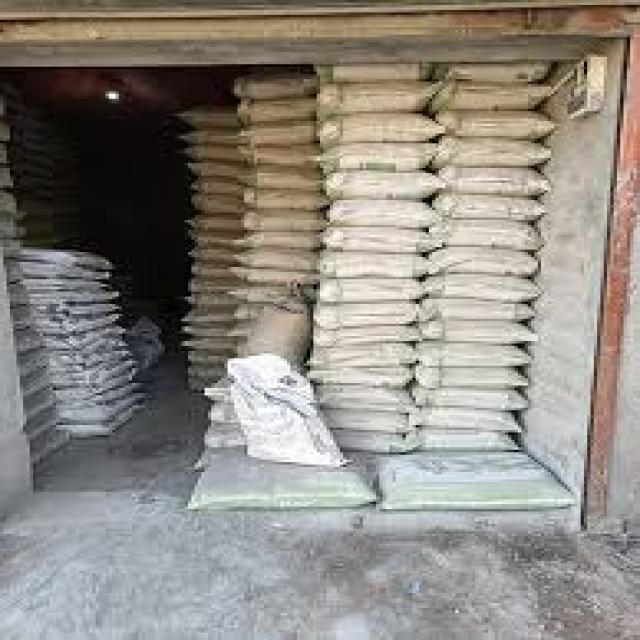cement_bag: (383, 452, 572, 505), (330, 81, 434, 114), (448, 112, 552, 140), (324, 278, 420, 308), (440, 222, 534, 252), (331, 171, 432, 197), (455, 82, 554, 108), (316, 387, 409, 414), (445, 169, 537, 196), (71, 391, 140, 423), (442, 250, 530, 275), (347, 118, 435, 143), (340, 201, 425, 226), (447, 143, 543, 165), (337, 147, 428, 170), (334, 256, 415, 281), (436, 280, 528, 302), (250, 166, 325, 192), (433, 346, 525, 367), (323, 345, 411, 366), (40, 312, 117, 336), (433, 371, 525, 391), (444, 199, 540, 218), (438, 322, 528, 342), (439, 302, 528, 322), (337, 233, 424, 253), (422, 411, 513, 430), (252, 186, 327, 209), (29, 249, 114, 269), (426, 394, 518, 412), (245, 248, 315, 271), (243, 97, 312, 120), (248, 120, 310, 145), (416, 433, 506, 450), (251, 213, 320, 232), (243, 267, 307, 287), (28, 277, 105, 291), (186, 106, 234, 128), (187, 130, 240, 148), (198, 192, 239, 215), (20, 371, 52, 400), (25, 392, 54, 423), (190, 160, 237, 176), (18, 352, 48, 377), (194, 214, 233, 230), (18, 332, 41, 354)
